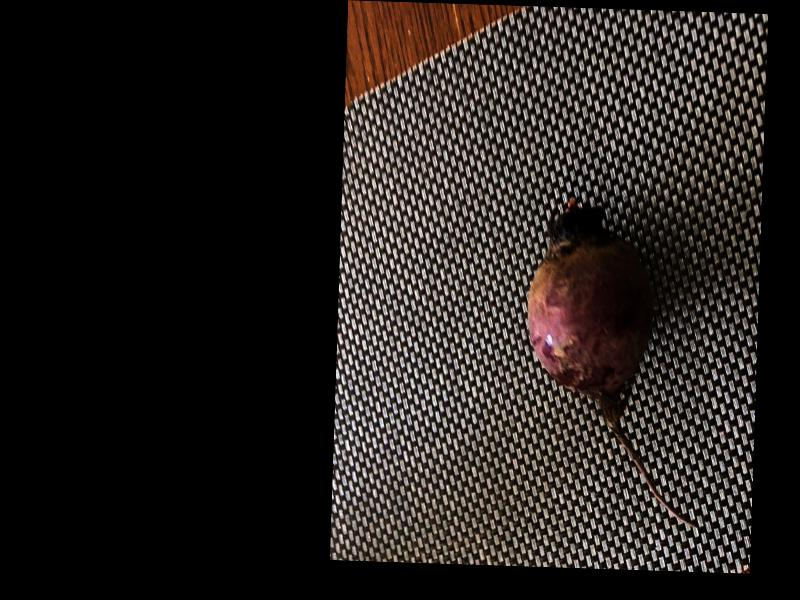Beet: (521, 195, 708, 529)
